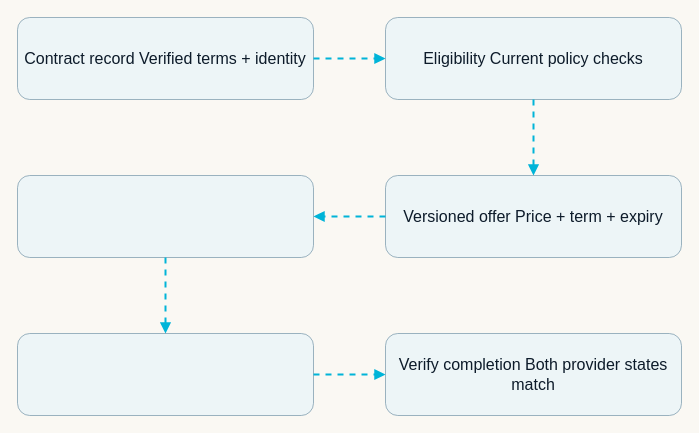
Some shapes in this 699 by 433 pixel diagram are drawn without their labels. The shapes that lost their labels are listed below. From the top down, each one's centre as x and y in pixels, then its label:
At point 165,216: "Buyer accepts Authority + exact version".
At point 165,374: "Term begins Billing + product access".
